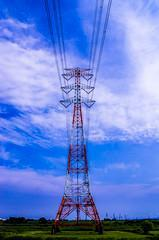power_tower: (52, 64, 114, 237)
